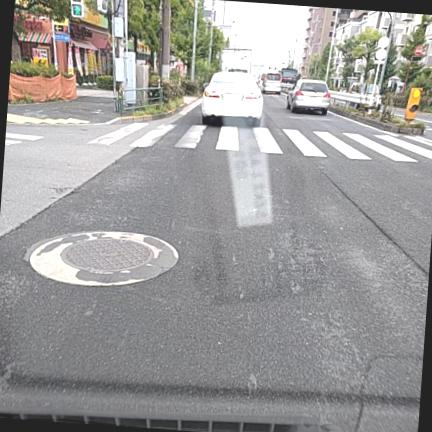Road: (0, 96, 431, 431)
